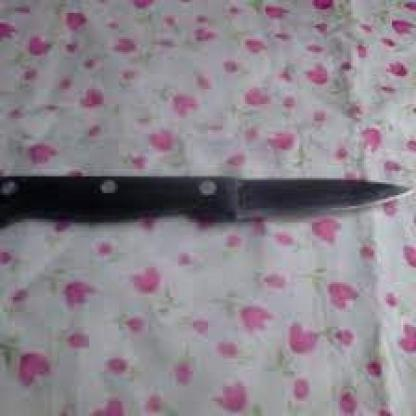Knife: (1, 66, 416, 266)
